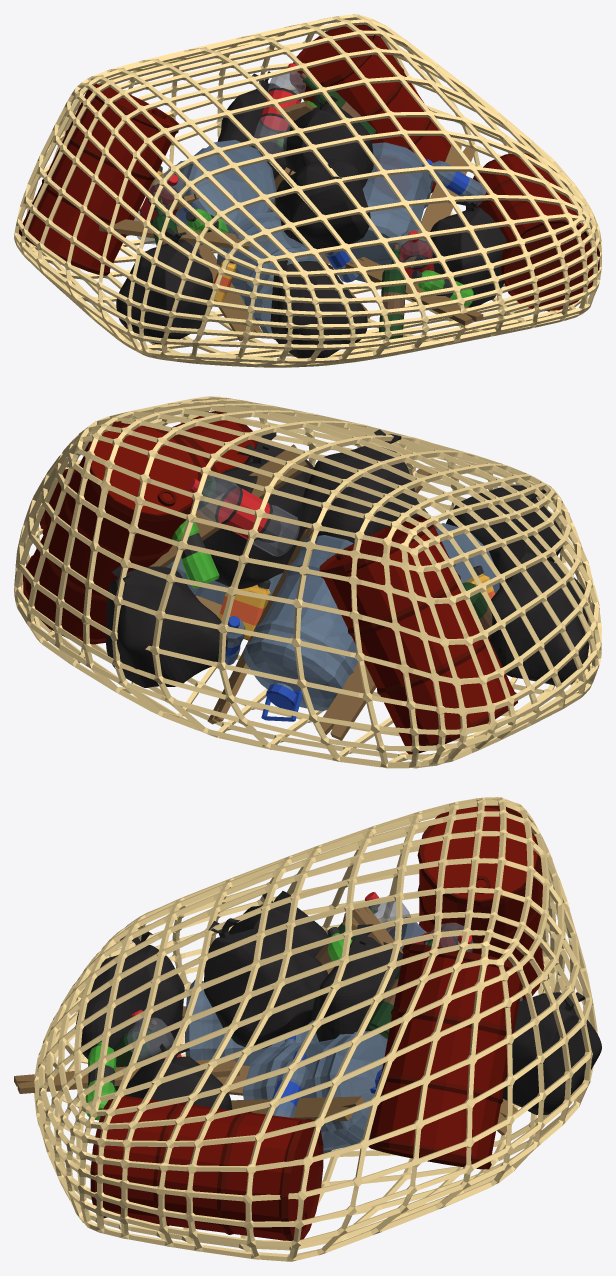
The model's file is FloatingTrashCollection (1).fbx.
The picture shows the model from 3 angles, top to bottom: view 1: azimuth 30°, elevation 25°; view 2: azimuth 150°, elevation 25°; view 3: azimuth 270°, elevation 25°; orthographic projection. The views are drawn at different scales.
Visible parts, largest first — view 1: BigFloatingTrashCollection; view 2: BigFloatingTrashCollection; view 3: BigFloatingTrashCollection.
Boxes of the visible parts, left/top/right/bottom form: BigFloatingTrashCollection: left=14, top=14, right=601, bottom=367; BigFloatingTrashCollection: left=14, top=396, right=601, bottom=768; BigFloatingTrashCollection: left=14, top=797, right=601, bottom=1261.
Bounding box in the file's own units: 1398 × 638 × 1240.
